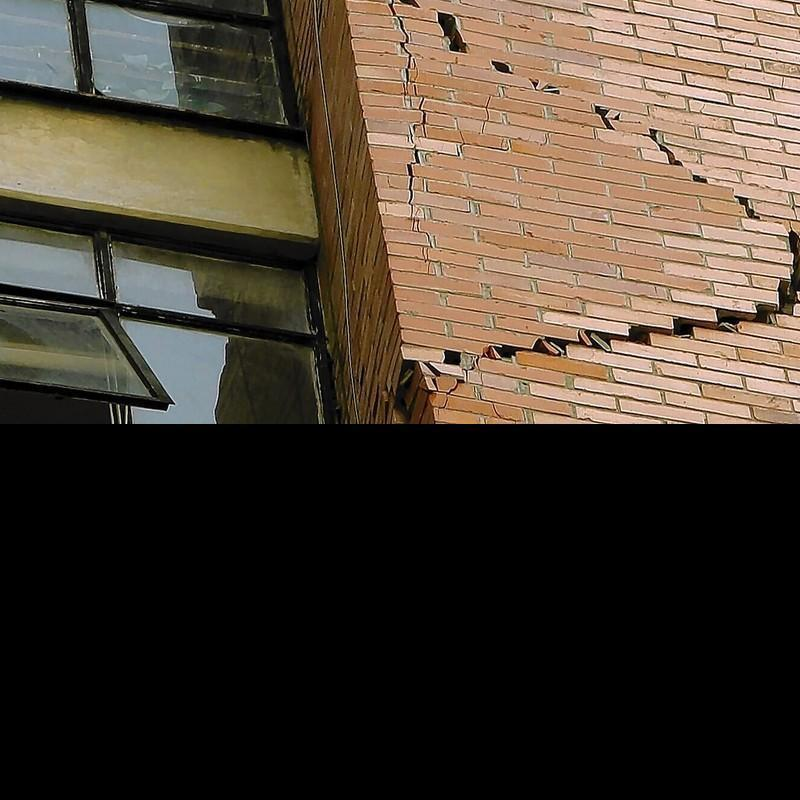crack: (718, 220, 799, 325), (436, 362, 476, 411), (389, 0, 413, 81), (647, 129, 682, 166), (438, 12, 467, 54), (407, 146, 421, 218), (672, 323, 732, 339), (495, 341, 549, 358), (630, 328, 671, 347), (734, 195, 761, 220), (412, 94, 427, 138), (594, 106, 620, 129), (546, 337, 580, 354), (417, 218, 434, 248), (481, 95, 493, 135), (596, 333, 628, 346), (491, 401, 510, 421), (585, 330, 601, 350), (491, 60, 513, 74), (445, 350, 461, 365), (425, 247, 432, 274), (458, 129, 465, 154), (400, 0, 420, 8), (542, 84, 559, 93), (407, 123, 414, 144), (692, 175, 708, 183), (791, 206, 798, 221), (499, 136, 506, 150), (412, 81, 418, 97), (411, 217, 417, 232), (542, 132, 548, 146), (421, 248, 427, 262), (530, 80, 539, 89), (698, 103, 706, 113), (413, 57, 418, 69), (780, 76, 785, 88)
